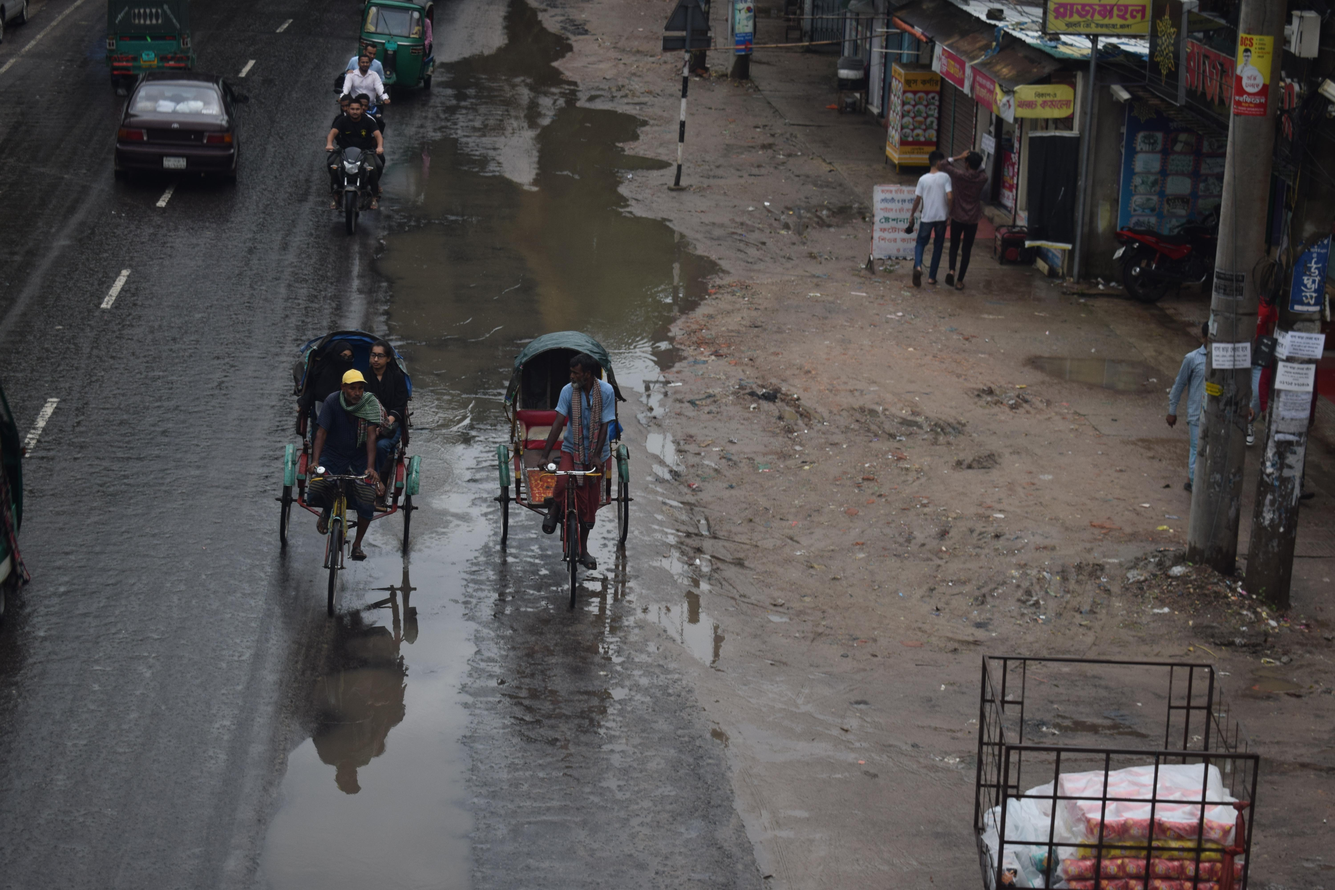Bike: (300, 75, 410, 257)
Car: (229, 295, 448, 635), (456, 307, 659, 642), (89, 67, 267, 207)
